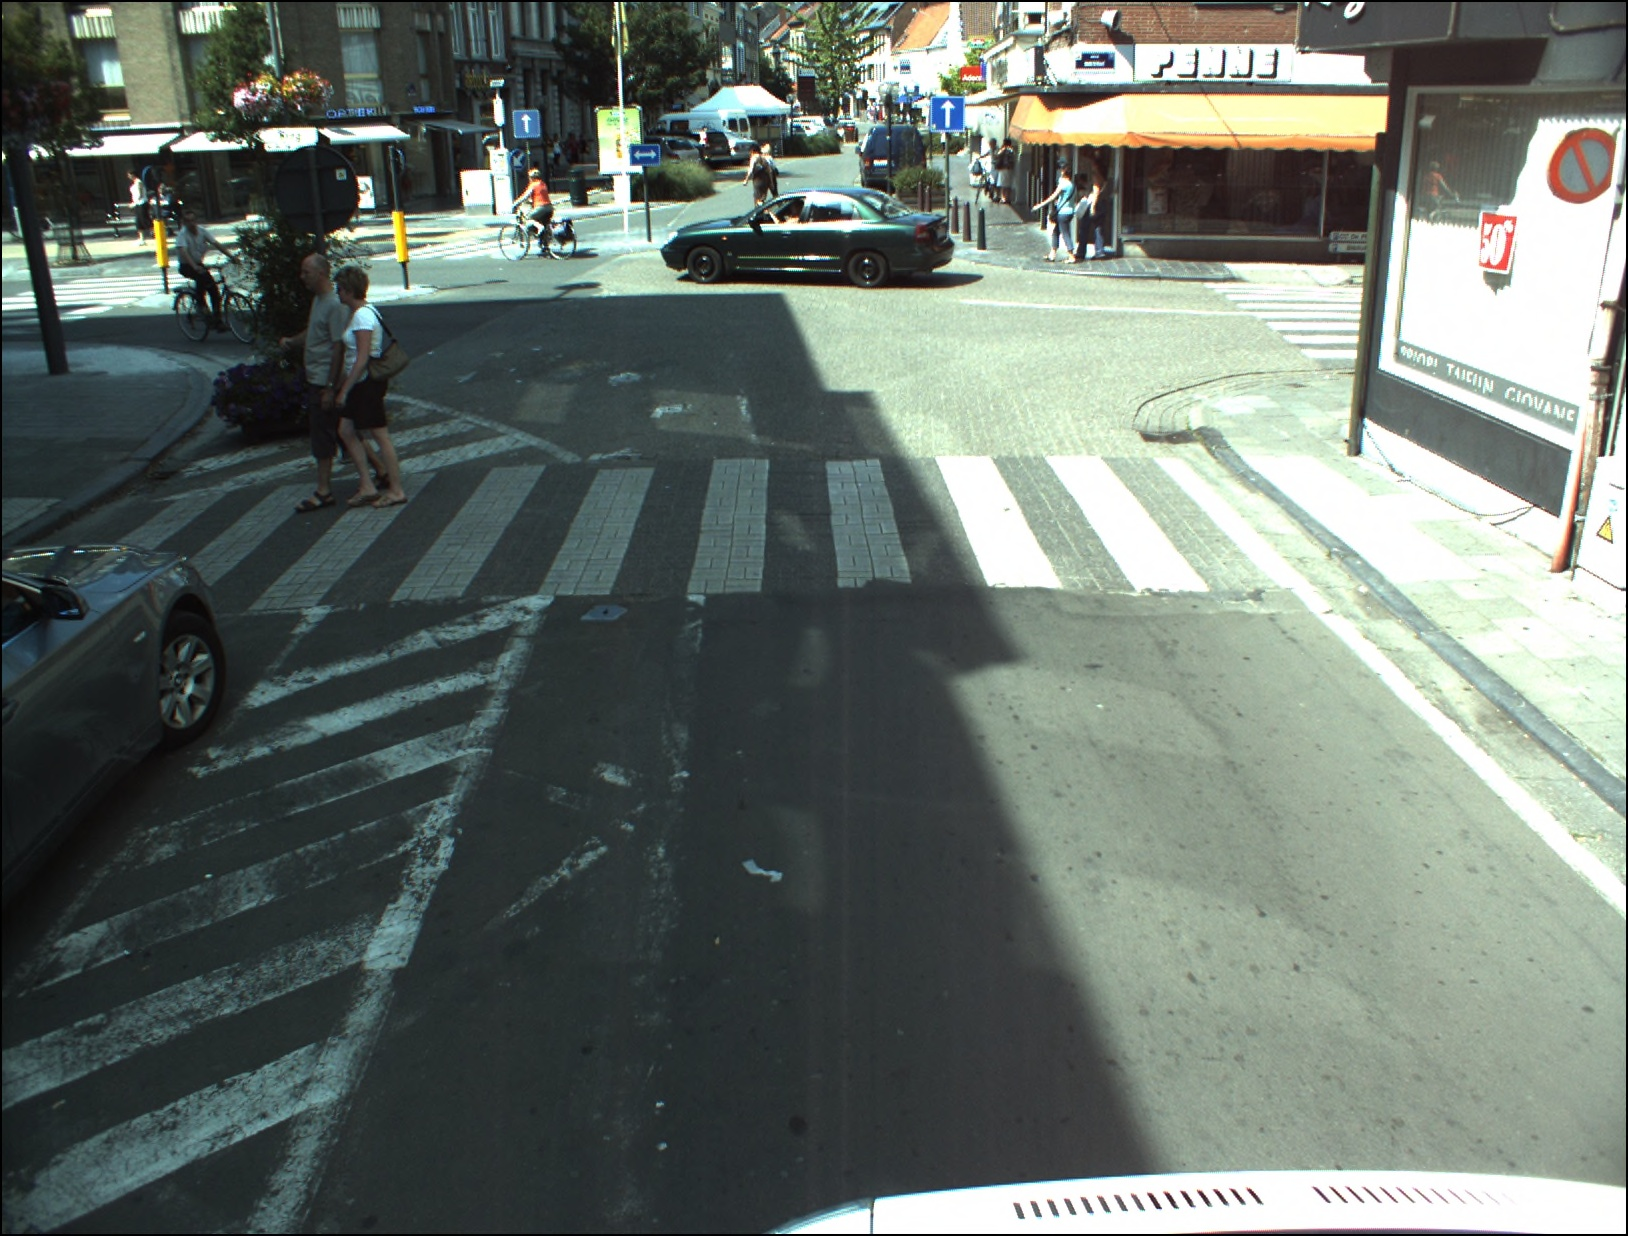noparking: (1548, 131, 1611, 206)
oneway: (928, 92, 966, 135), (512, 112, 541, 140)
